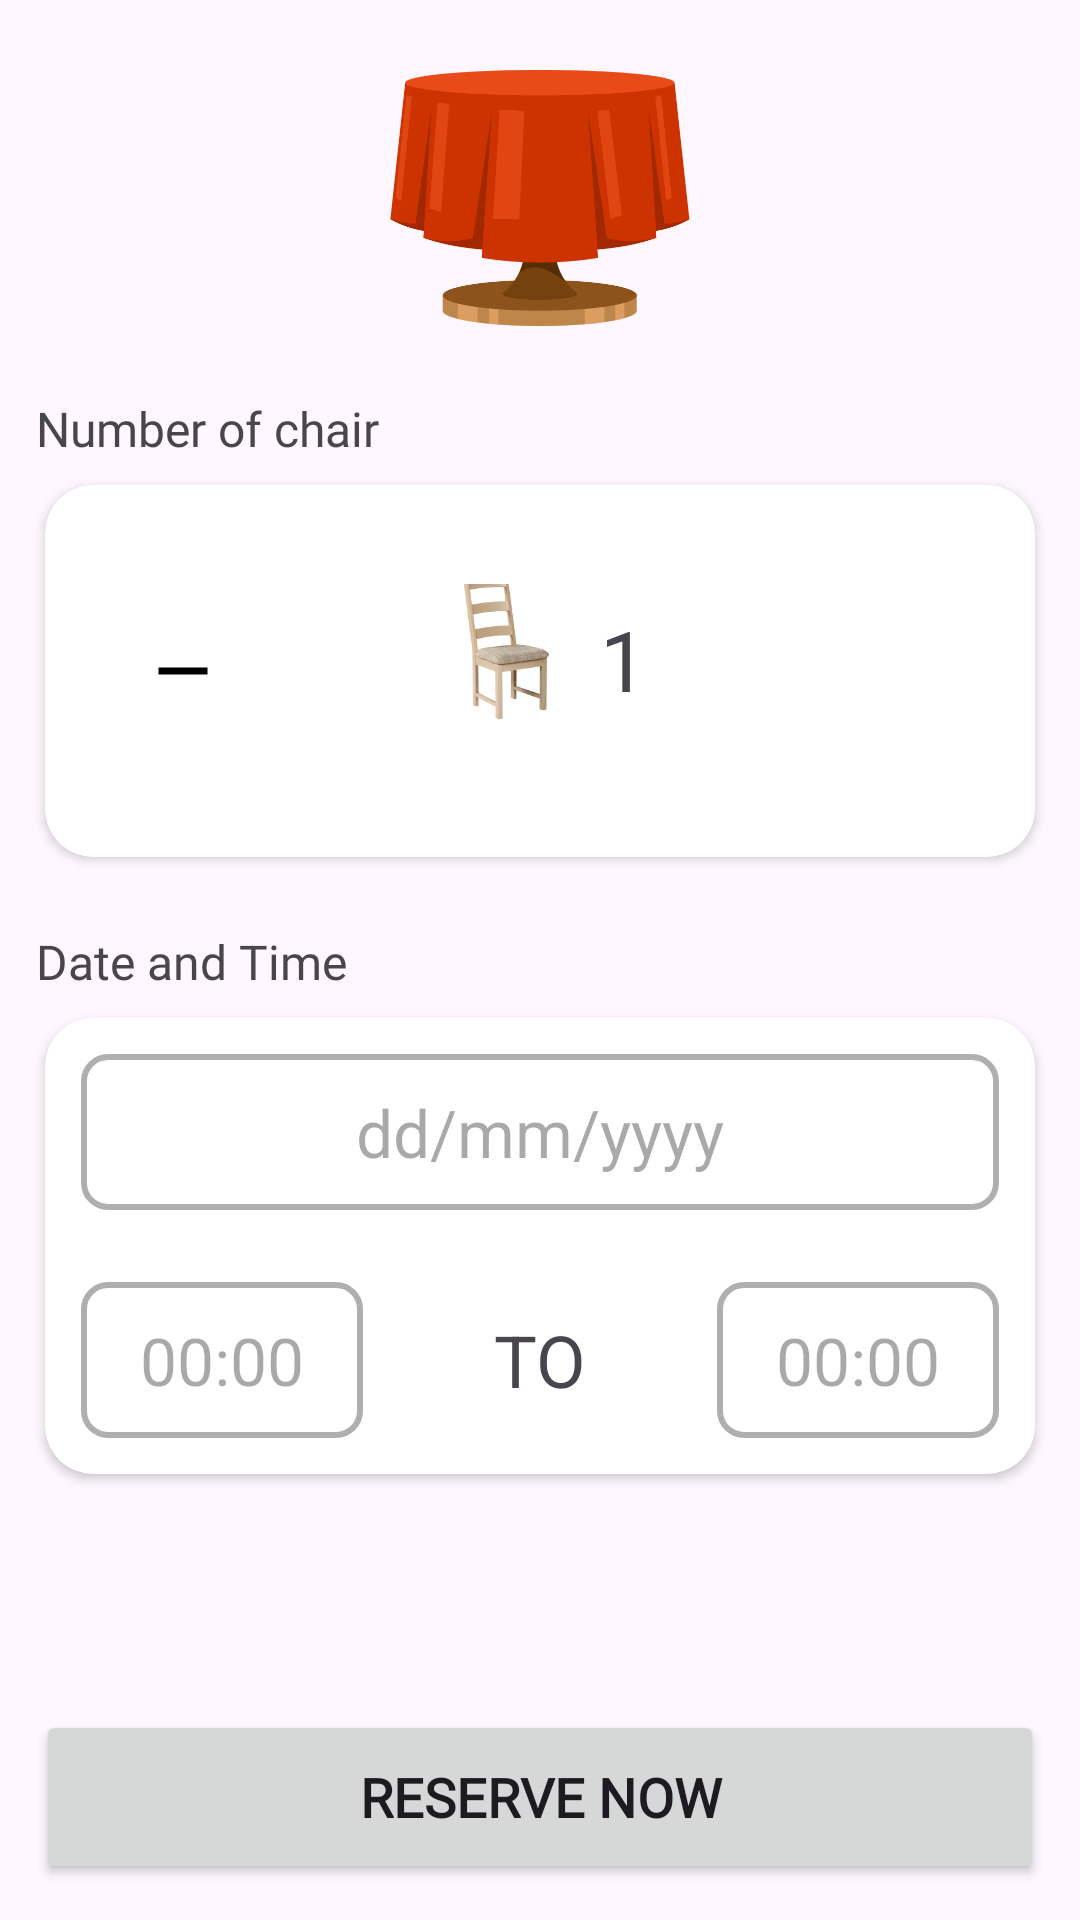

Screen size 1080x1920. Icon name, then its box in pixels as bbox=[x1, y1, x2, y2]:
table: bbox=[390, 70, 690, 326]
